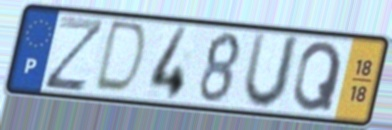4: (146, 23, 191, 103)
8: (196, 30, 244, 104)
D: (90, 18, 151, 99)
Q: (290, 39, 345, 114)
U: (239, 30, 303, 113)
Z: (41, 14, 108, 95)
